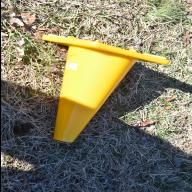cone: (40, 33, 170, 143)
